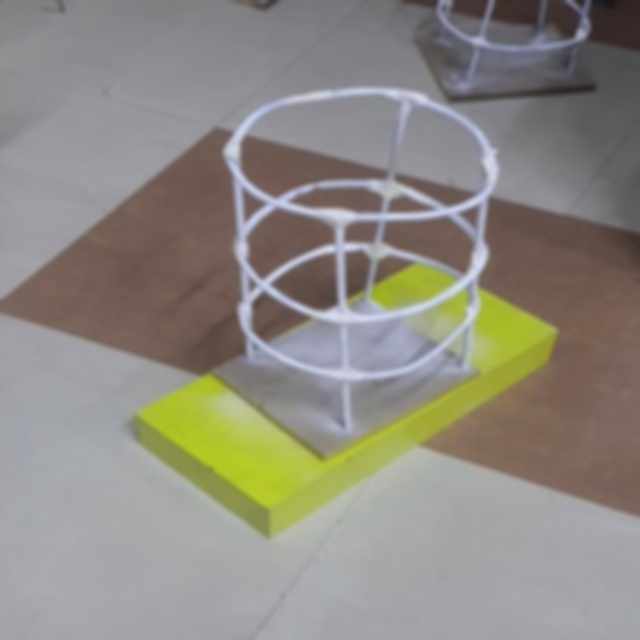silo: (209, 90, 502, 432), (419, 0, 607, 99)
